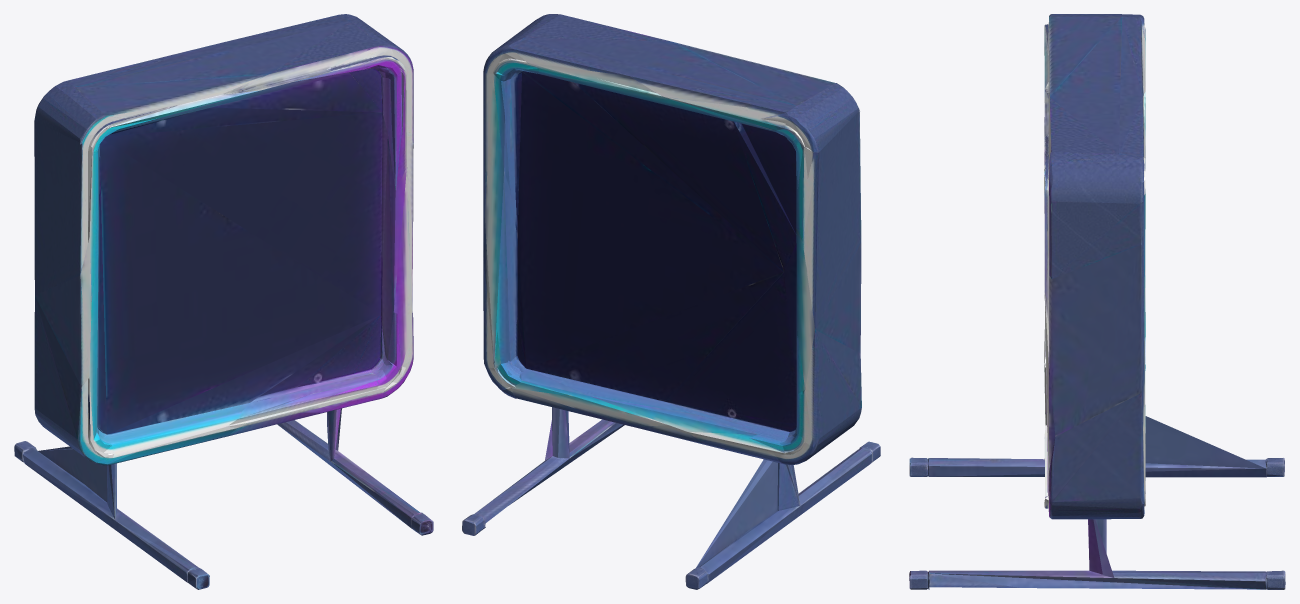
Rendered from leaderboard-screen.glb.
The picture shows the model from 3 angles, left to right: view 1: azimuth 30°, elevation 25°; view 2: azimuth 150°, elevation 25°; view 3: azimuth 270°, elevation 25°; orthographic projection. The views are drawn at different scales.
Bounding box in the file's own units: 1.54 × 1.9 × 1.45.
Materials: 1 (1 with a texture image).
